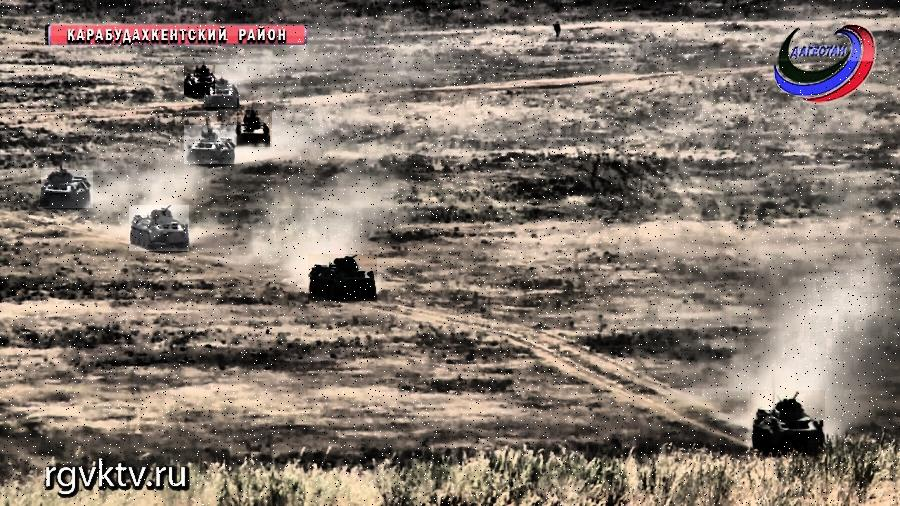military-vehicle: (750, 391, 825, 457), (308, 254, 377, 301), (129, 206, 189, 252), (184, 125, 236, 164), (42, 170, 94, 208), (237, 111, 272, 148), (185, 66, 216, 96), (204, 80, 237, 108)
